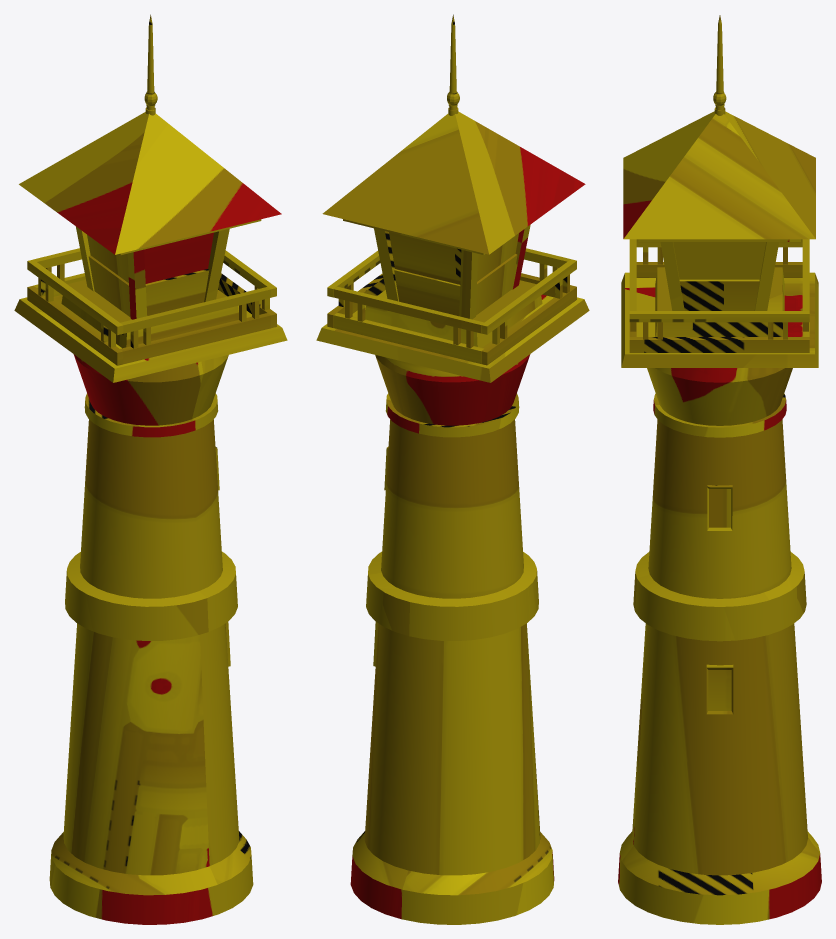
The model's file is mayak_itog.fbx.
3 renders of one model, left to right at view 1: azimuth 30°, elevation 25°; view 2: azimuth 150°, elevation 25°; view 3: azimuth 270°, elevation 25°, orthographic.
Parts seen in each view (by area): view 1: Cube.074; view 2: Cube.074; view 3: Cube.074.
Boxes of the visible parts, box(x1,y1,x2,y2) form: Cube.074: box(14, 14, 287, 924); Cube.074: box(316, 14, 589, 924); Cube.074: box(618, 15, 821, 924).
Bounding box in the file's own units: 398 × 1874 × 398.
